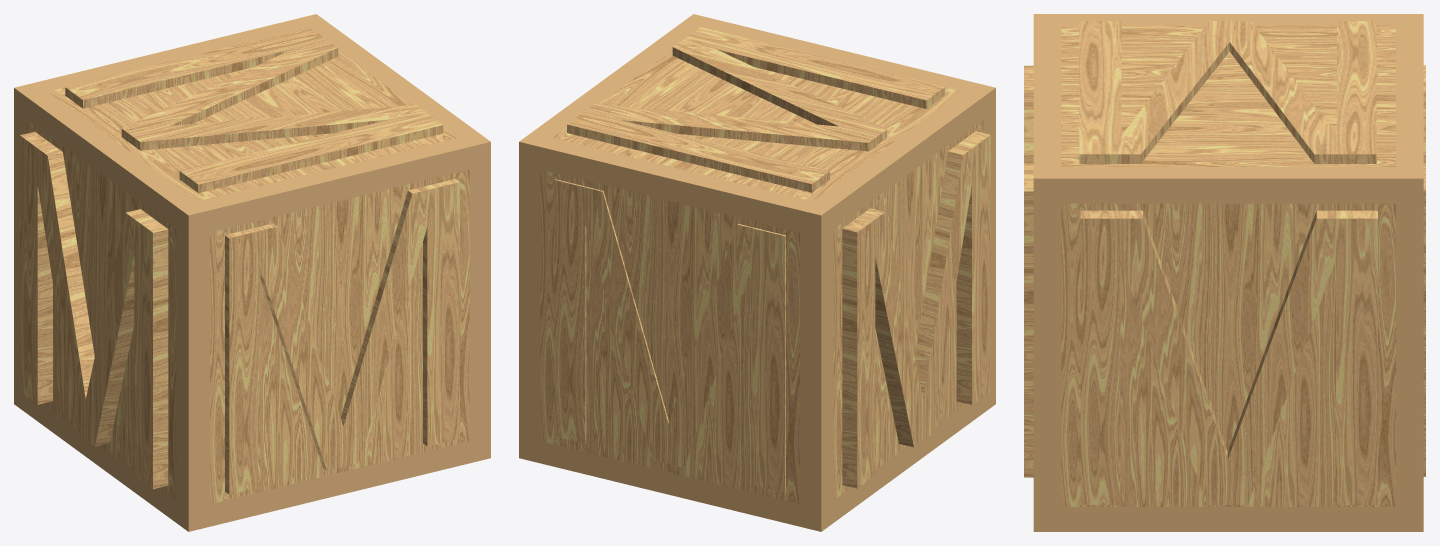
The model's file is Block M.fbx.
3 renders of one model, left to right at view 1: azimuth 30°, elevation 25°; view 2: azimuth 150°, elevation 25°; view 3: azimuth 270°, elevation 25°, orthographic. The views are drawn at different scales.
Parts seen in each view (by area): view 1: Box, FRONT, LEFT, TOP; view 2: Box, BACK, LEFT, TOP; view 3: Box, RIGHT, TOP, FRONT, BACK.
Boxes of the visible parts, x1,y1,x2,y2 form: Box: (14, 14, 490, 531); FRONT: (225, 179, 459, 494); LEFT: (20, 131, 168, 489); TOP: (65, 27, 443, 193); Box: (519, 14, 995, 531); BACK: (554, 179, 785, 492); LEFT: (842, 131, 990, 488); TOP: (567, 27, 945, 192); Box: (1033, 14, 1423, 531); RIGHT: (1080, 210, 1377, 504); TOP: (1079, 21, 1376, 163); FRONT: (1024, 65, 1033, 477); BACK: (1423, 65, 1425, 476).
Bounding box in the file's own units: 1.1 × 1.04 × 1.03.
Materials: 2 (2 with a texture image).
